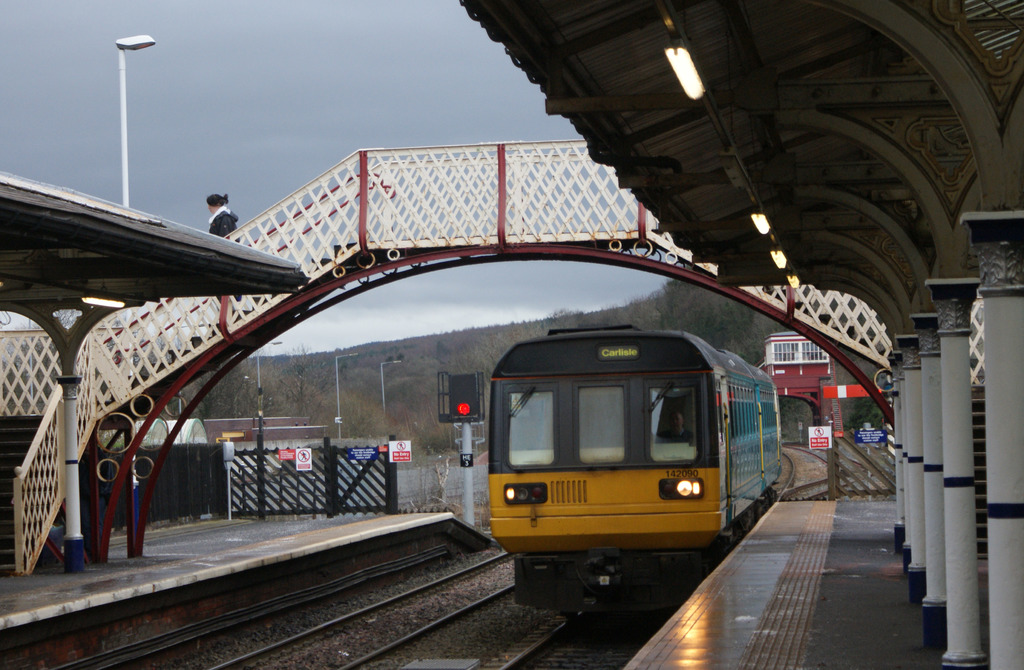train: (490, 329, 783, 648)
